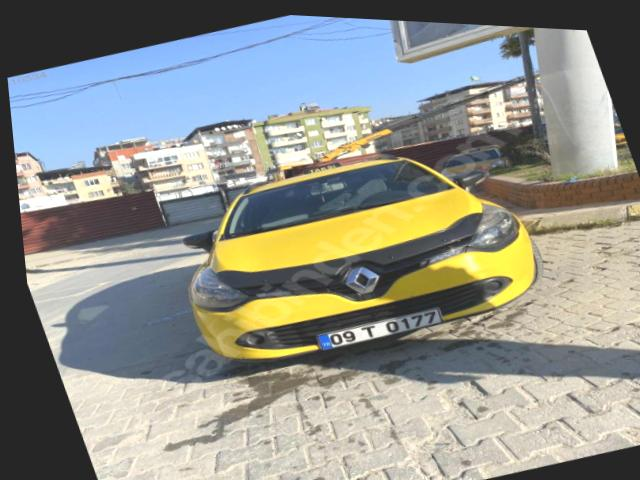plaka: (317, 308, 441, 349)
